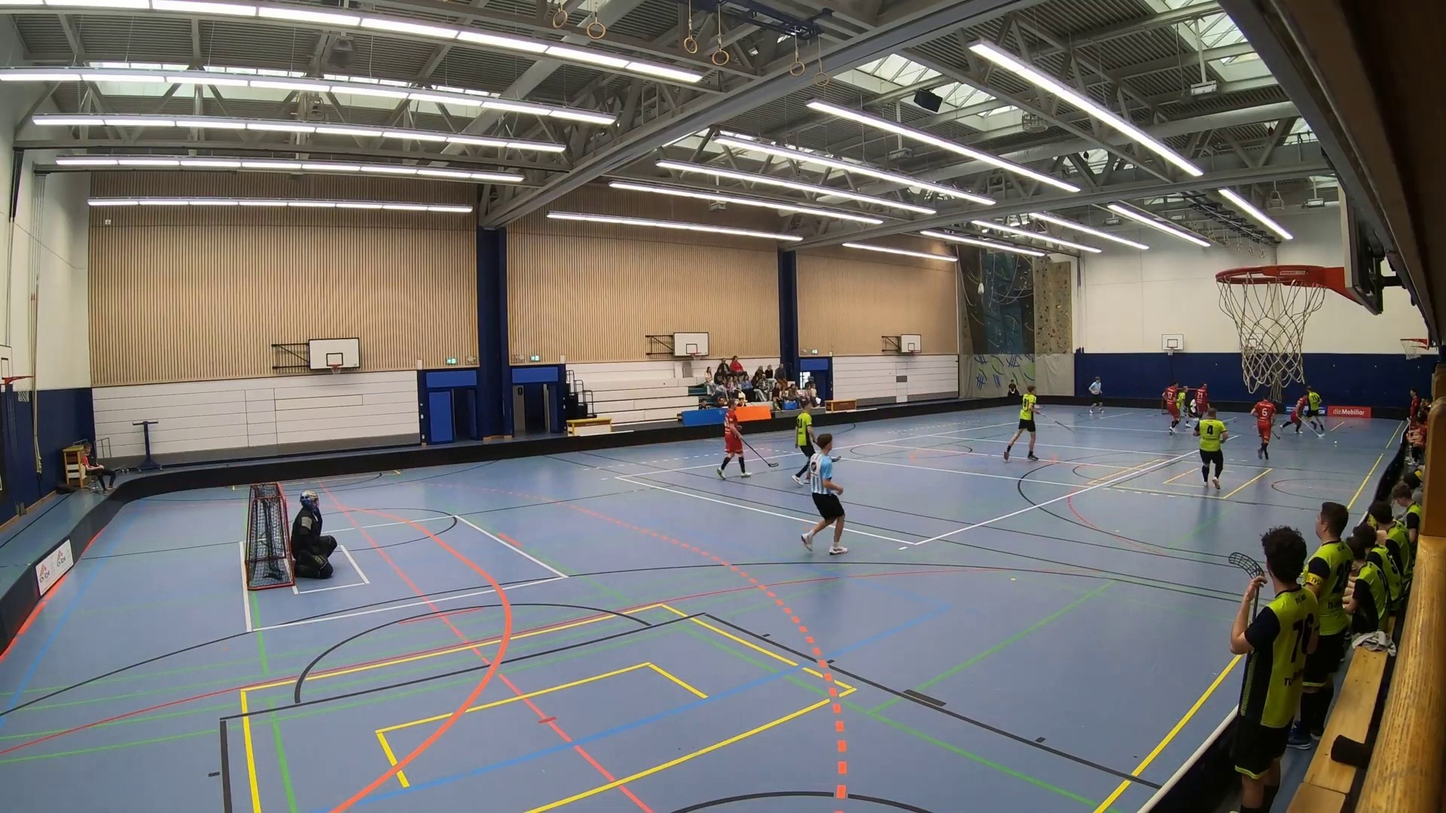Schiri: (798, 431, 861, 565), (1087, 372, 1106, 416)
ball: (1329, 432, 1349, 451)
goalkeeper: (286, 472, 344, 599), (1189, 398, 1198, 418)
player: (712, 386, 766, 496), (1003, 374, 1052, 463), (785, 389, 822, 478), (1243, 387, 1277, 468), (1198, 405, 1231, 487), (1157, 377, 1180, 438), (1285, 390, 1310, 442), (1305, 384, 1330, 432), (1193, 380, 1210, 422), (1176, 384, 1190, 432)
